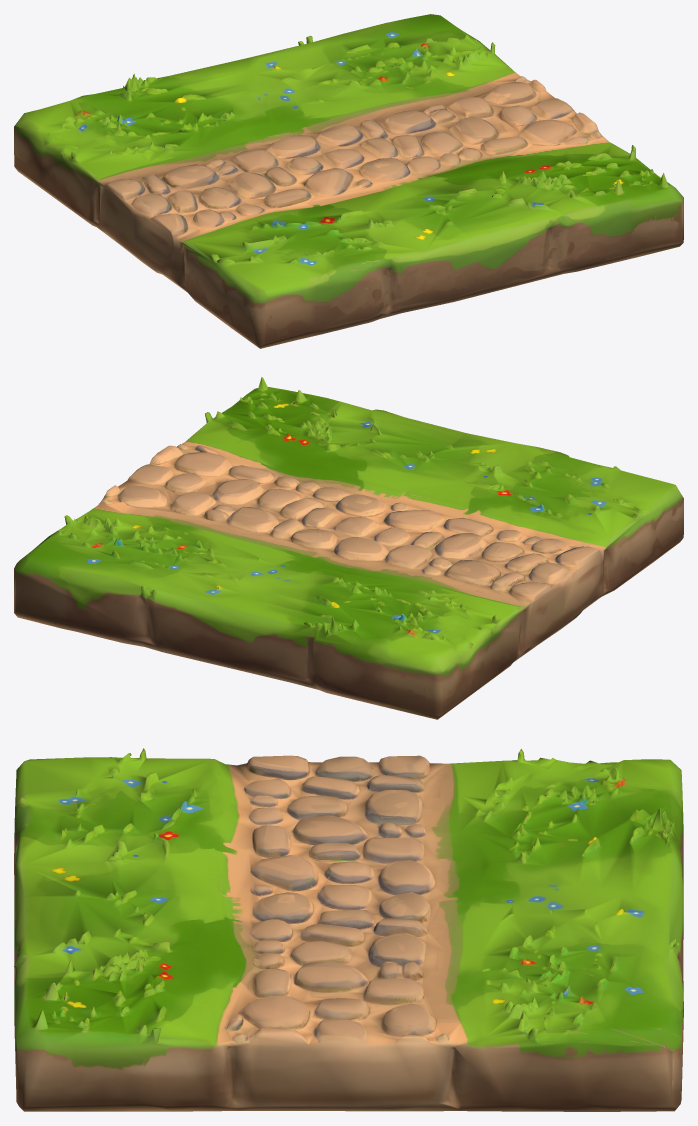
File: path-straight.glb
3 views of the same model, one above another, from view 1: azimuth 30°, elevation 25°; view 2: azimuth 150°, elevation 25°; view 3: azimuth 270°, elevation 25° (orthographic). The views are drawn at different scales.
Parts seen in each view (by area): view 1: Mesh1.0; view 2: Mesh1.0; view 3: Mesh1.0.
Boxes of the visible parts, <box> form: Mesh1.0: <box>14,14,683,348</box>; Mesh1.0: <box>14,377,683,719</box>; Mesh1.0: <box>14,748,683,1111</box>.
Size of the model in its own units: 1.9 by 0.3159 by 1.9.
Materials: 1 (1 with a texture image).
